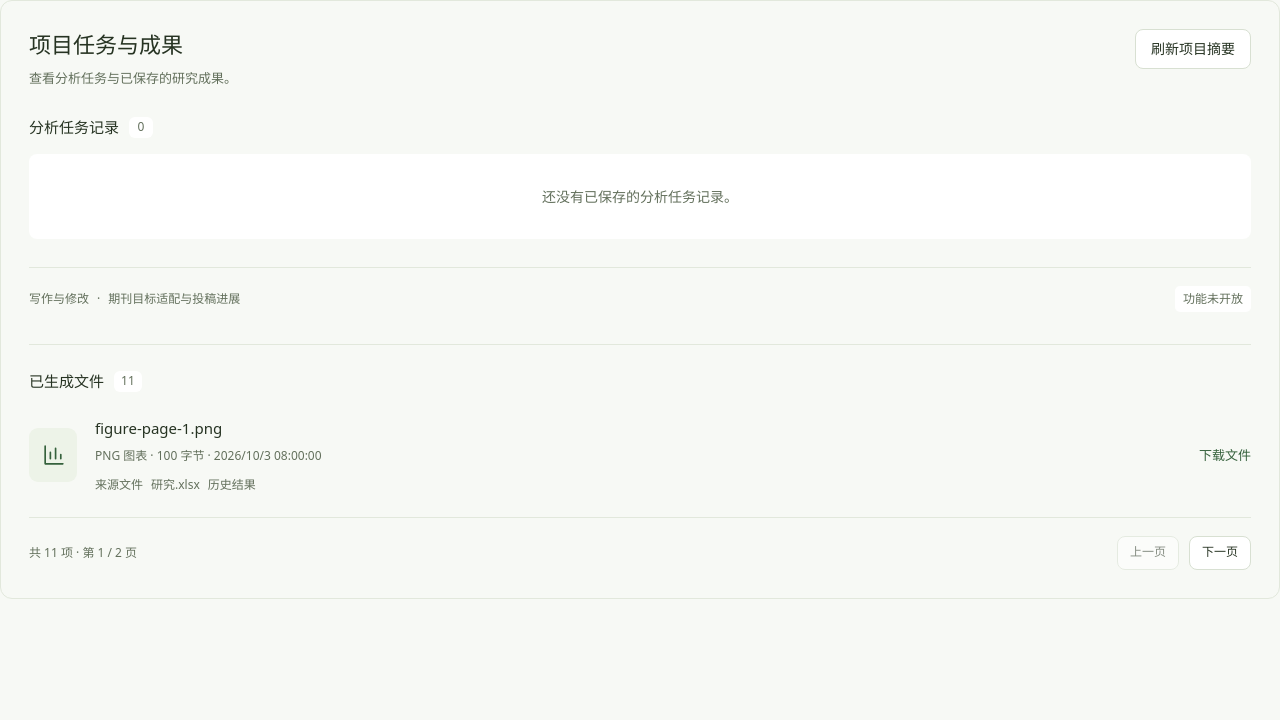
Test: paginates artifacts independently and returns to the last valid page after records shrink
Expected: the text "figure-page-1.png" is shown, top-left (95, 418), bottom-right (222, 438)
Click the button with aria-label "成果下一页": [1220, 553] box top-left (1189, 536), bottom-right (1251, 570)
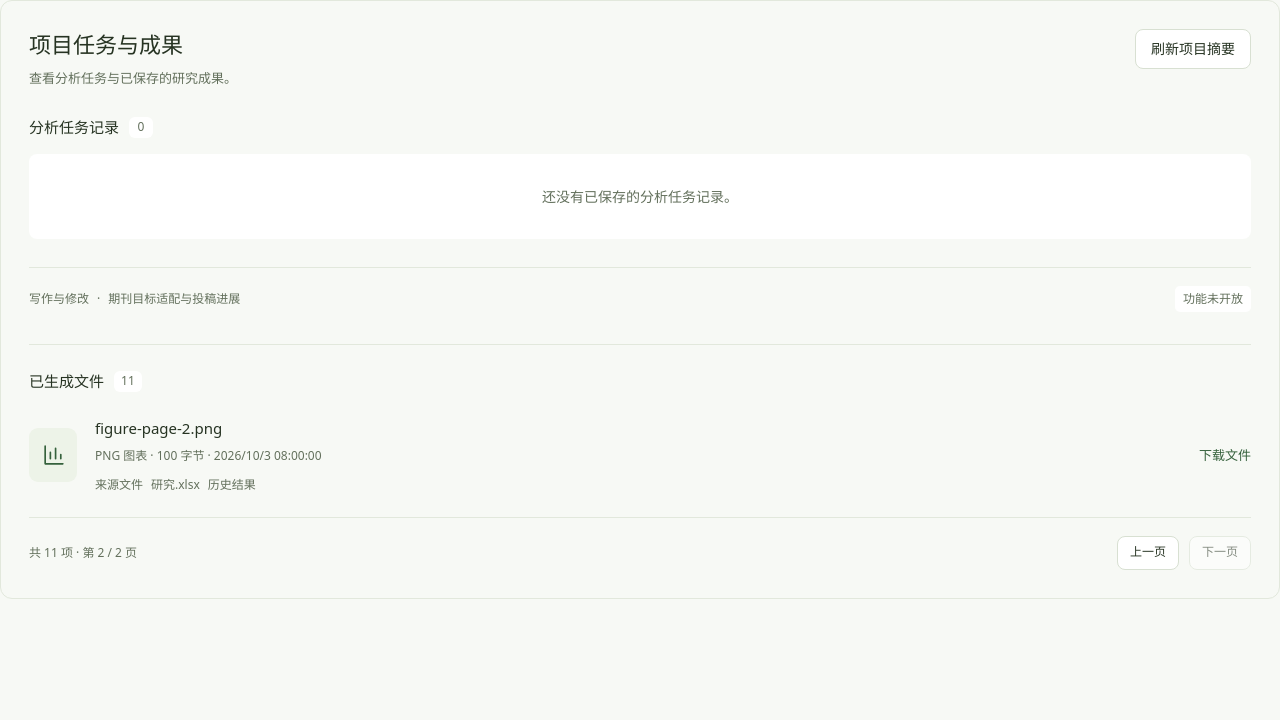
Result: the text "figure-page-2.png" is shown at top-left (95, 418), bottom-right (222, 438)
Click the button "刷新项目摘要": [1193, 49] box top-left (1135, 29), bottom-right (1251, 69)
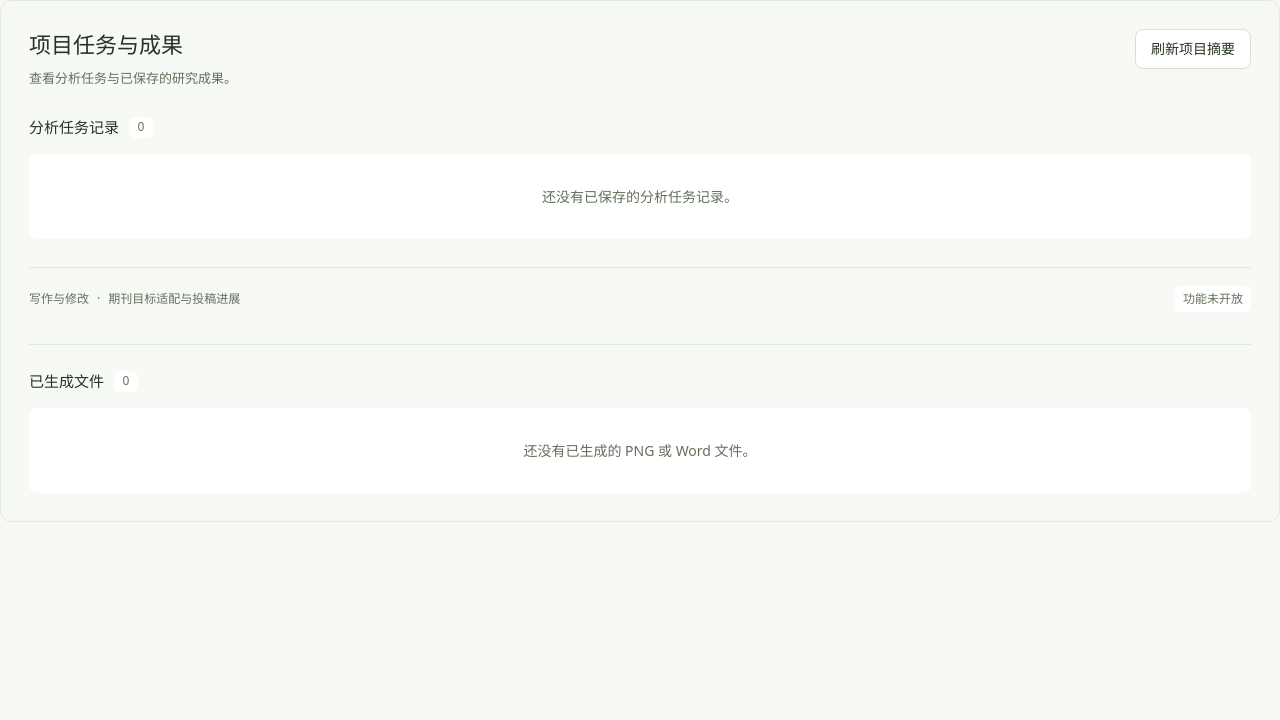
Result: the text "还没有已生成的 PNG 或 Word 文件。" is shown at top-left (29, 408), bottom-right (1251, 493)
